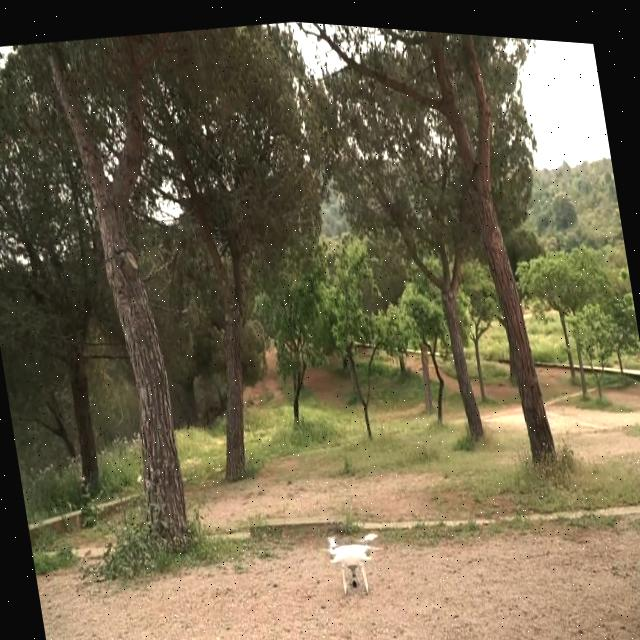drone: (314, 514, 390, 598)
